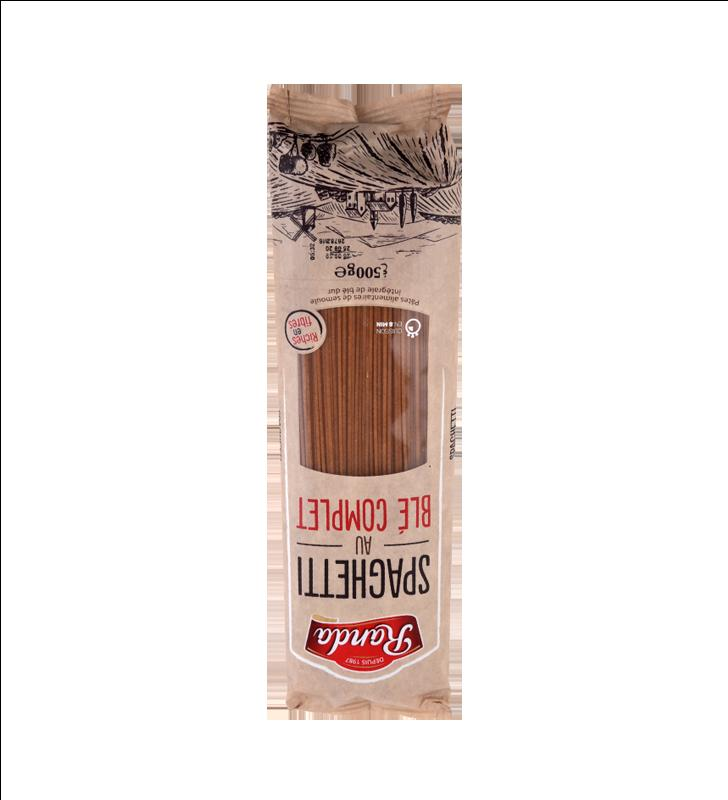Spaghetti: (265, 81, 459, 715)
